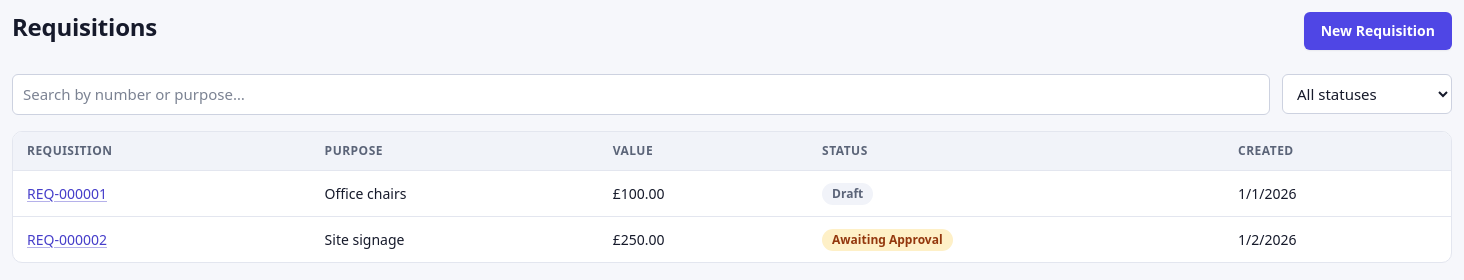
Test case: RequisitionListPage (item 5) › SEARCH/FILTER: filtering by status narrows the list
expect the link "REQ-000001" is shown: met, box [27, 184, 107, 202]
Select "Draft" in the dropdown named "Filter by status". click: [1367, 94]
box: [1282, 74, 1452, 114]
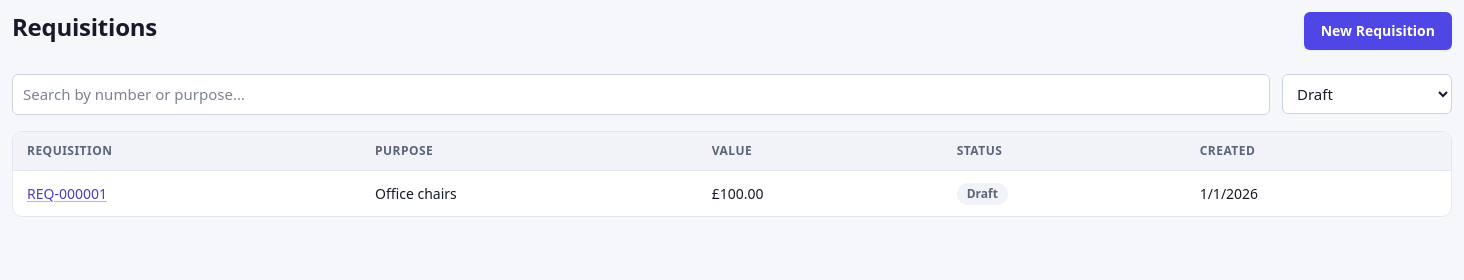
expect the link "REQ-000001" is shown: met, box [27, 184, 107, 202]
expect the link "REQ-000002" is gone: met
